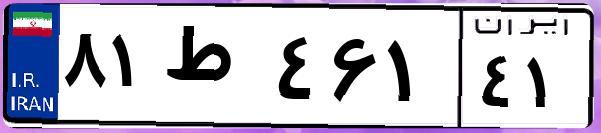1: (385, 28, 445, 110), (525, 38, 570, 115), (110, 28, 158, 98)
4: (270, 28, 330, 110), (475, 38, 525, 113)
6: (330, 28, 385, 110)
8: (57, 26, 110, 100)
ط: (158, 20, 270, 120)
